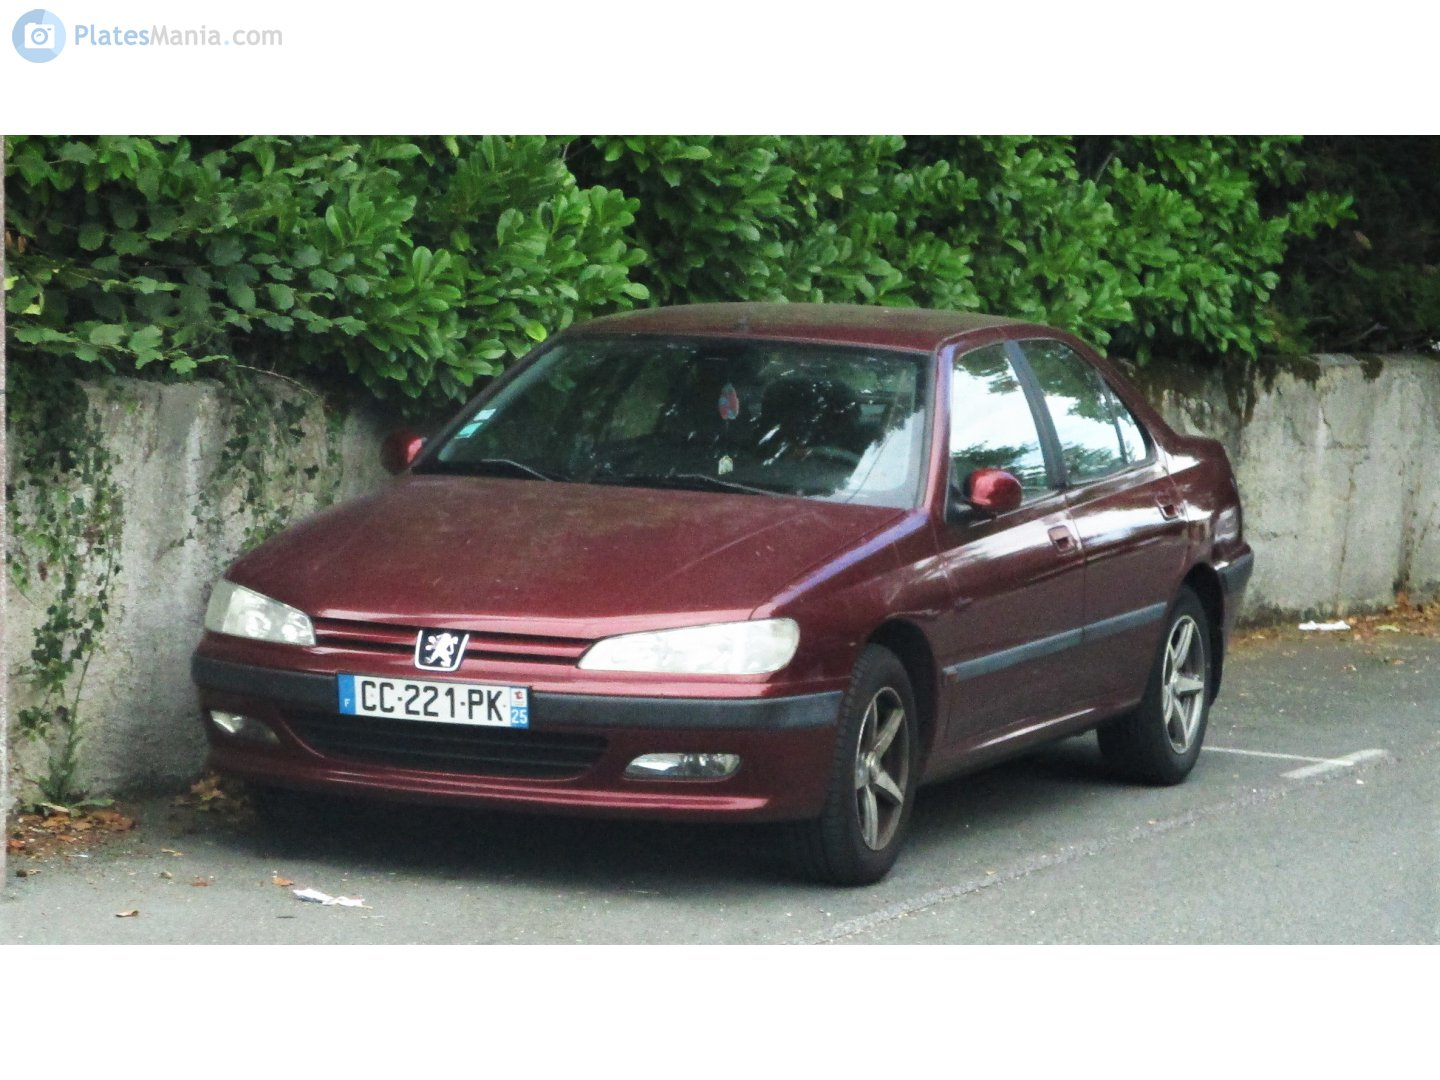licence plate: (330, 668, 534, 735)
